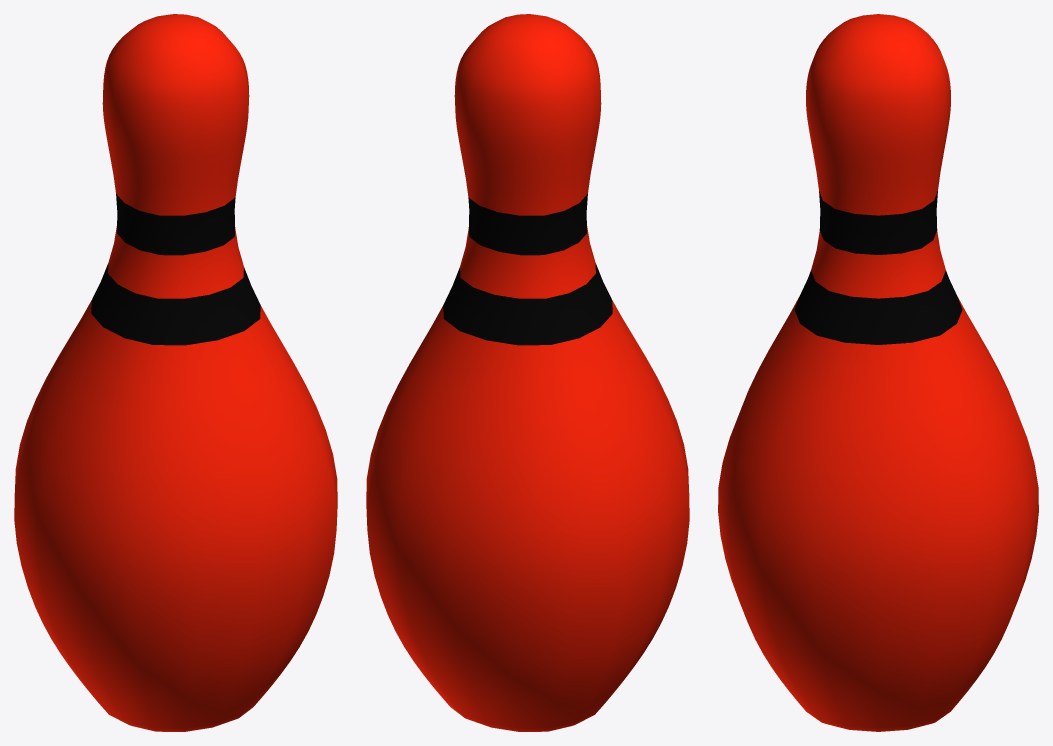
File: BowlingPin2.glb
The picture shows the model from 3 angles, left to right: view 1: azimuth 30°, elevation 25°; view 2: azimuth 150°, elevation 25°; view 3: azimuth 270°, elevation 25°; orthographic projection.
Parts seen in each view (by area): view 1: Cube.013; view 2: Cube.013; view 3: Cube.013.
Part boxes in pixels (left/top/right/bottom): Cube.013: left=14, top=14, right=337, bottom=731; Cube.013: left=366, top=14, right=689, bottom=731; Cube.013: left=718, top=14, right=1038, bottom=731.
Bounding box in the file's own units: 0.7757 × 1.81 × 0.7757.
